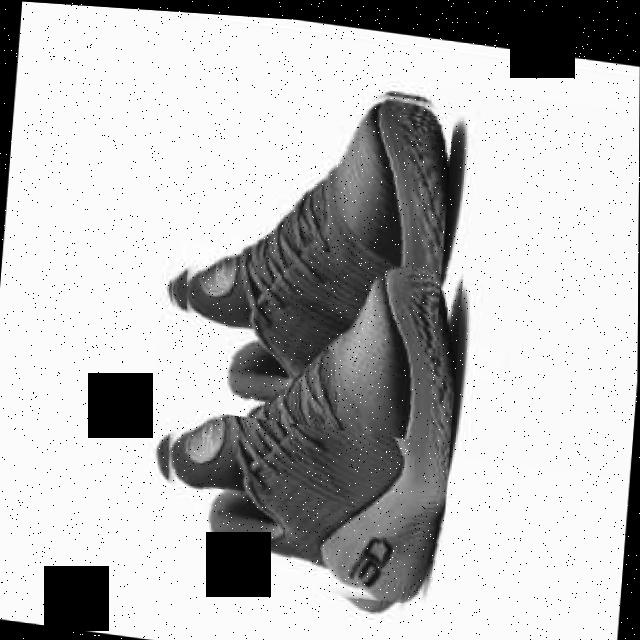shoe: (146, 219, 464, 612), (161, 56, 455, 437)
